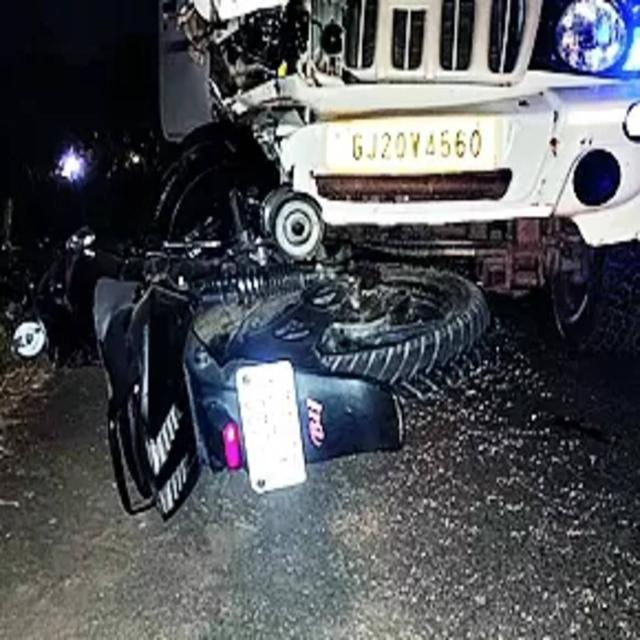accident: (94, 122, 489, 518)
